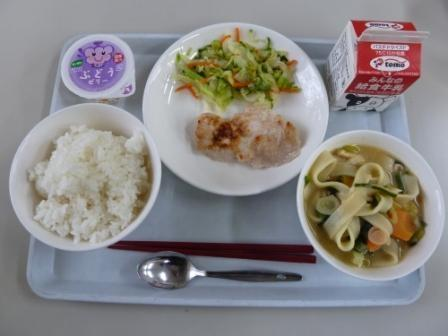Cup desserts: (54, 33, 142, 105)
Meat: (193, 99, 309, 173)
Milk: (319, 13, 431, 117)
Rice: (9, 103, 166, 248)
Salad: (168, 20, 306, 108)
noodles soup: (305, 135, 441, 275)
